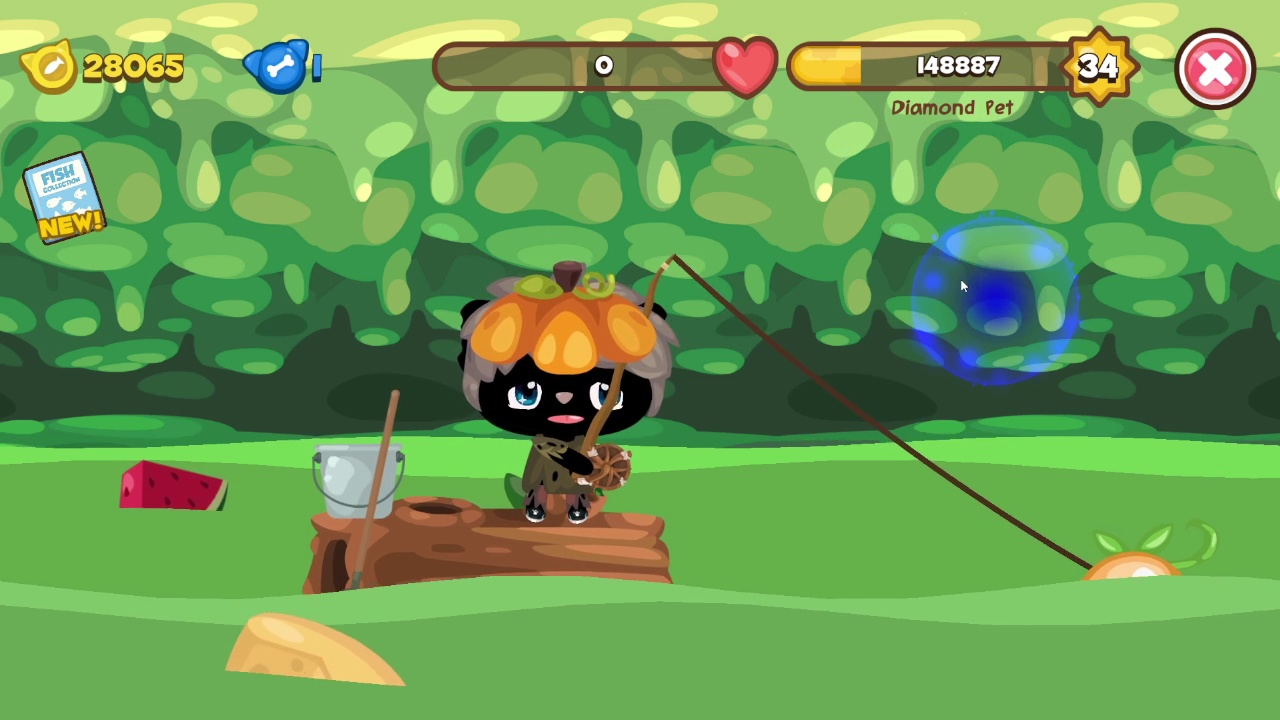point: (910, 214, 1083, 393)
